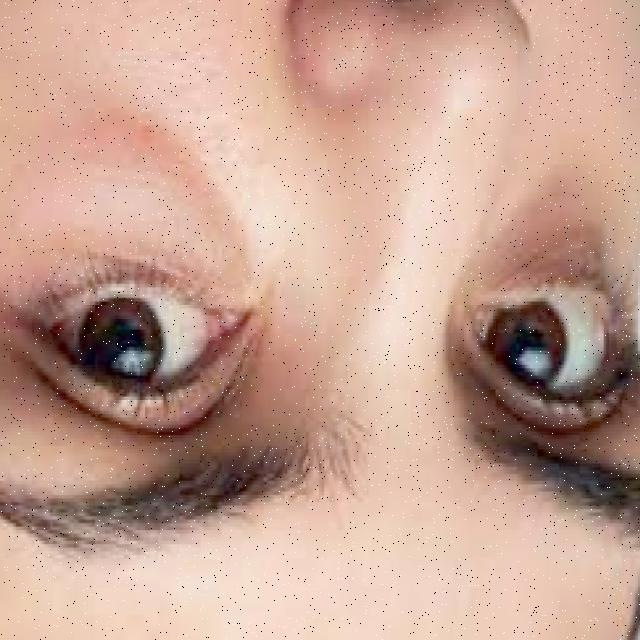puffy_eyes: (22, 82, 249, 301), (483, 184, 638, 294)
